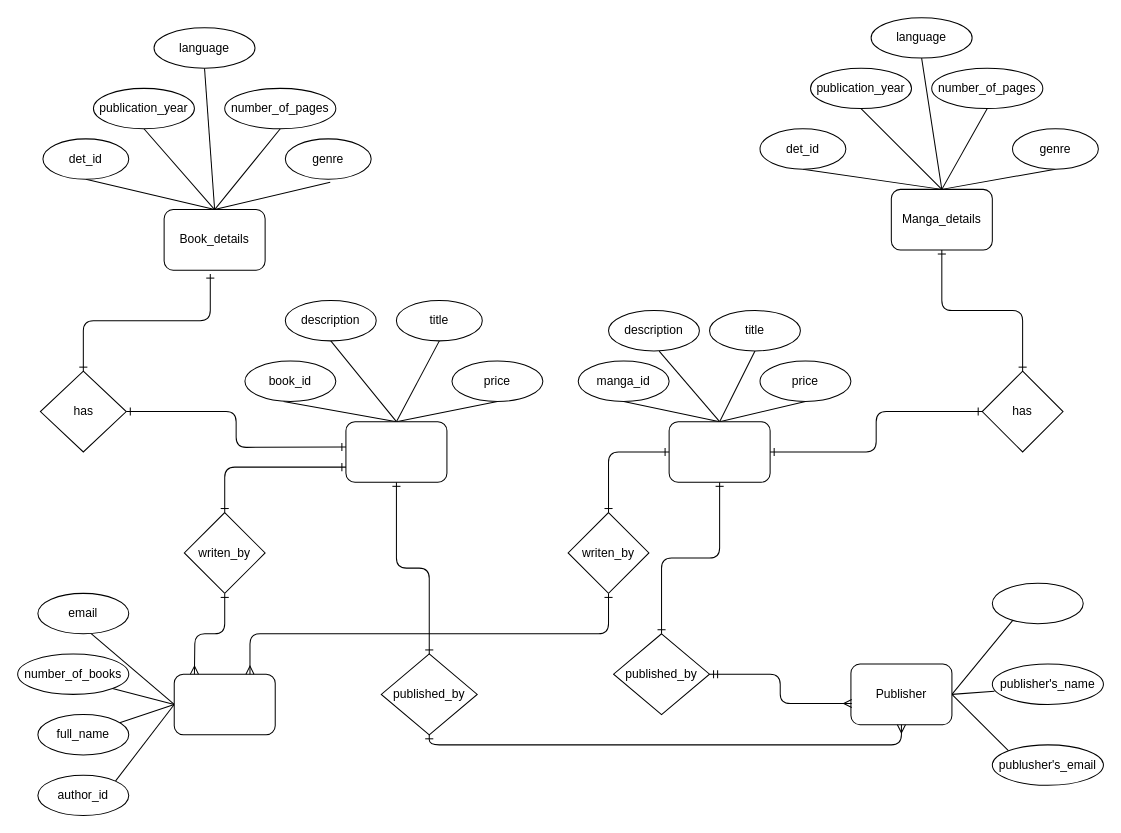
The diagram is 1121 pixels wide and 833 high, and some of its shapes have lost their labels. The shapes that lost their labels are listed below. From the top down, each one's centre as x and y in pixels, then its label:
(396,451): Book
(719,451): Manga
(1037,603): publisher_id
(224,704): Author
